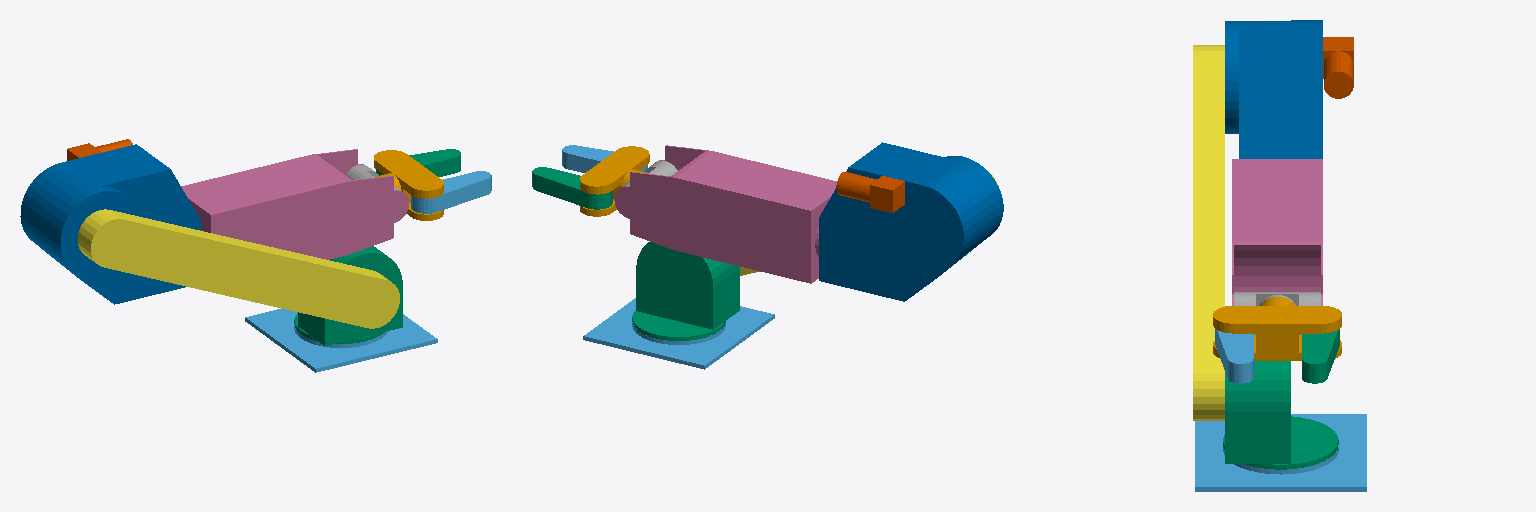
robot.urdf — generated_robot:
<?xml version='1.0' encoding='utf-8'?>
<robot name="generated_robot">
  <link name="dummy_base" />
  <joint name="dummy_joint" type="fixed">
    <parent link="dummy_base"/>
    <child link="base_link"/>
    <origin xyz="0 0 0" rpy="0 0 0"/>
  </joint>
  <link name="base_link">
    <inertial>
      <origin xyz="0 0 0.005" rpy="0 0 0" />
      <mass value="0.20722675" />
      <inertia ixx="0.00044381063" iyy="0.00044381063" izz="0.00088416748" ixy="0" ixz="0" iyz="0" />
    </inertial>
    <visual>
      <origin xyz="0 0 0" rpy="1.5707963 0 0" />
      <geometry>
        <mesh filename="package://robot_arm_description/meshes/part_001_solid_001.stl" scale="0.001 0.001 0.001" />
      </geometry>
    </visual>
    <collision>
      <origin xyz="0 0 0" rpy="1.5707963 0 0" />
      <geometry>
        <mesh filename="package://robot_arm_description/meshes/part_001_solid_001.stl" scale="0.001 0.001 0.001" />
      </geometry>
    </collision>
  </link>
  <link name="link_1">
    <inertial>
      <origin xyz="-7.77359e-05 1.085663e-05 0.052" rpy="0 0 0" />
      <mass value="0.75222554" />
      <inertia ixx="0.0014611179" iyy="0.0014603677" izz="0.0014319537" ixy="0" ixz="0" iyz="0" />
    </inertial>
    <visual>
      <origin xyz="0 0 -0.0125" rpy="1.5707963 0 0" />
      <geometry>
        <mesh filename="package://robot_arm_description/meshes/part_004_solid_004.stl" scale="0.001 0.001 0.001" />
      </geometry>
    </visual>
    <collision>
      <origin xyz="0 0 -0.0125" rpy="1.5707963 0 0" />
      <geometry>
        <mesh filename="package://robot_arm_description/meshes/part_004_solid_004.stl" scale="0.001 0.001 0.001" />
      </geometry>
    </collision>
  </link>
  <link name="link_2">
    <inertial>
      <origin xyz="-0.17305284 -0.045749999 0.078439232" rpy="0 0 0" />
      <mass value="0.92159971" />
      <inertia ixx="0.0036781725" iyy="0.016267603" izz="0.01272767" ixy="0" ixz="0" iyz="0" />
    </inertial>
    <visual>
      <origin xyz="0 0.02095 -0.068" rpy="1.5707963 0 0" />
      <geometry>
        <mesh filename="package://robot_arm_description/meshes/part_002_solid_002.stl" scale="0.001 0.001 0.001" />
      </geometry>
    </visual>
    <collision>
      <origin xyz="0 0.02095 -0.068" rpy="1.5707963 0 0" />
      <geometry>
        <mesh filename="package://robot_arm_description/meshes/part_002_solid_002.stl" scale="0.001 0.001 0.001" />
      </geometry>
    </collision>
  </link>
  <link name="link_3">
    <inertial>
      <origin xyz="0.045797883 0.04535 -0.023750007" rpy="0 0 0" />
      <mass value="2.40023" />
      <inertia ixx="0.006297151" iyy="0.012367358" izz="0.0093611186" ixy="0" ixz="0" iyz="0" />
    </inertial>
    <visual>
      <origin xyz="0.34610569 0.0517 -0.22487846" rpy="1.5707963 0 0" />
      <geometry>
        <mesh filename="package://robot_arm_description/meshes/part_003_solid_003.stl" scale="0.001 0.001 0.001" />
      </geometry>
    </visual>
    <collision>
      <origin xyz="0.34610569 0.0517 -0.22487846" rpy="1.5707963 0 0" />
      <geometry>
        <mesh filename="package://robot_arm_description/meshes/part_003_solid_003.stl" scale="0.001 0.001 0.001" />
      </geometry>
    </collision>
  </link>
  <link name="camera">
    <inertial>
      <origin xyz="-0.28386569 0.0535 0.26287846" rpy="0 0 0" />
      <mass value="0.062997497" />
      <inertia ixx="8.8301445e-06" iyy="3.3693688e-05" izz="3.3693693e-05" ixy="0" ixz="0" iyz="0" />
    </inertial>
    <visual>
      <origin xyz="0 0 0" rpy="1.5707963 0 0" />
      <geometry>
        <mesh filename="package://robot_arm_description/meshes/part_010_solid_010.stl" scale="0.001 0.001 0.001" />
      </geometry>
    </visual>
    <collision>
      <origin xyz="0 0 0" rpy="1.5707963 0 0" />
      <geometry>
        <mesh filename="package://robot_arm_description/meshes/part_010_solid_010.stl" scale="0.001 0.001 0.001" />
      </geometry>
    </collision>
  </link>
  <link name="link_4">
    <inertial>
      <origin xyz="0.13742708 -0.003 9.55e-10" rpy="0 0 0" />
      <mass value="1.6739517" />
      <inertia ixx="0.0021649777" iyy="0.010966021" izz="0.010769611" ixy="0" ixz="0" iyz="0" />
    </inertial>
    <visual>
      <origin xyz="0.20710569 0 -0.16487846" rpy="1.5707963 0 0" />
      <geometry>
        <mesh filename="package://robot_arm_description/meshes/part_006_solid_006.stl" scale="0.001 0.001 0.001" />
      </geometry>
    </visual>
    <collision>
      <origin xyz="0.20710569 0 -0.16487846" rpy="1.5707963 0 0" />
      <geometry>
        <mesh filename="package://robot_arm_description/meshes/part_006_solid_006.stl" scale="0.001 0.001 0.001" />
      </geometry>
    </collision>
  </link>
  <link name="link_5">
    <inertial>
      <origin xyz="6.6e-10 -0.041 4.77e-09" rpy="0 0 0" />
      <mass value="0.095084454" />
      <inertia ixx="6.3389636e-05" iyy="2.5355854e-05" izz="6.3389636e-05" ixy="0" ixz="0" iyz="0" />
    </inertial>
    <visual>
      <origin xyz="-0.042894309 -0.038 -0.16487846" rpy="1.5707963 0 0" />
      <geometry>
        <mesh filename="package://robot_arm_description/meshes/part_005_solid_005.stl" scale="0.001 0.001 0.001" />
      </geometry>
    </visual>
    <collision>
      <origin xyz="-0.042894309 -0.038 -0.16487846" rpy="1.5707963 0 0" />
      <geometry>
        <mesh filename="package://robot_arm_description/meshes/part_005_solid_005.stl" scale="0.001 0.001 0.001" />
      </geometry>
    </collision>
  </link>
  <link name="link_6">
    <inertial>
      <origin xyz="0.030000001 0 4.77e-09" rpy="0 0 0" />
      <mass value="0.16141715" />
      <inertia ixx="0.00021218407" iyy="6.7849009e-05" izz="0.00024118535" ixy="0" ixz="0" iyz="0" />
    </inertial>
    <visual>
      <origin xyz="-0.046894309 0.003 -0.16487846" rpy="1.5707963 0 0" />
      <geometry>
        <mesh filename="package://robot_arm_description/meshes/part_007_solid_007.stl" scale="0.001 0.001 0.001" />
      </geometry>
    </visual>
    <collision>
      <origin xyz="-0.046894309 0.003 -0.16487846" rpy="1.5707963 0 0" />
      <geometry>
        <mesh filename="package://robot_arm_description/meshes/part_007_solid_007.stl" scale="0.001 0.001 0.001" />
      </geometry>
    </collision>
  </link>
  <link name="right_gripper">
    <inertial>
      <origin xyz="0.034372258 -0.00010536384 -0.0099999952" rpy="0 0 0" />
      <mass value="0.071346324" />
      <inertia ixx="9.9848345e-06" iyy="6.7599466e-05" izz="7.2827879e-05" ixy="0" ixz="0" iyz="0" />
    </inertial>
    <visual>
      <origin xyz="-0.086894309 0.043 -0.17387846" rpy="1.5707963 0 0" />
      <geometry>
        <mesh filename="package://robot_arm_description/meshes/part_008_solid_008.stl" scale="0.001 0.001 0.001" />
      </geometry>
    </visual>
    <collision>
      <origin xyz="-0.086894309 0.043 -0.17387846" rpy="1.5707963 0 0" />
      <geometry>
        <mesh filename="package://robot_arm_description/meshes/part_008_solid_008.stl" scale="0.001 0.001 0.001" />
      </geometry>
    </collision>
  </link>
  <link name="left_gripper">
    <inertial>
      <origin xyz="0.034372258 0.00010536384 -0.0099999952" rpy="0 0 0" />
      <mass value="0.071346324" />
      <inertia ixx="9.9848345e-06" iyy="6.7599466e-05" izz="7.2827879e-05" ixy="0" ixz="0" iyz="0" />
    </inertial>
    <visual>
      <origin xyz="-0.086894309 -0.037 -0.17387846" rpy="1.5707963 0 0" />
      <geometry>
        <mesh filename="package://robot_arm_description/meshes/part_009_solid_009.stl" scale="0.001 0.001 0.001" />
      </geometry>
    </visual>
    <collision>
      <origin xyz="-0.086894309 -0.037 -0.17387846" rpy="1.5707963 0 0" />
      <geometry>
        <mesh filename="package://robot_arm_description/meshes/part_009_solid_009.stl" scale="0.001 0.001 0.001" />
      </geometry>
    </collision>
  </link>
  <joint name="link_1_joint" type="continuous">
    <origin xyz="0 0 0.0125" rpy="0 0 0" />
    <parent link="base_link" />
    <child link="link_1" />
    <axis xyz="0 0 -1" />
    <limit effort="10" velocity="5" />
  </joint>
  <joint name="link_2_joint" type="revolute">
    <origin xyz="0 -0.02095 0.0555" rpy="0 0 0" />
    <parent link="link_1" />
    <child link="link_2" />
    <axis xyz="0 1 0" />
    <limit lower="-0.75" upper="3.05" effort="10" velocity="5" />
  </joint>
  <joint name="link_3_joint" type="continuous">
    <origin xyz="-0.34610569 -0.03075 0.15687846" rpy="0 0 0" />
    <parent link="link_2" />
    <child link="link_3" />
    <axis xyz="0 1 0" />
    <limit effort="10" velocity="5" />
  </joint>
  <joint name="camera_joint" type="fixed">
    <origin xyz="0.34610569 0.0517 -0.22487846" rpy="0 0 0" />
    <parent link="link_3" />
    <child link="camera" />
  </joint>
  <joint name="link_4_joint" type="continuous">
    <origin xyz="-0.20710569 0 0.16487846" rpy="0 0 0" />
    <parent link="camera" />
    <child link="link_4" />
    <axis xyz="1 0 0" />
    <limit effort="10" velocity="5" />
  </joint>
  <joint name="link_5_joint" type="revolute">
    <origin xyz="0.25 0.038 0" rpy="0 0 0" />
    <parent link="link_4" />
    <child link="link_5" />
    <axis xyz="0 1 0" />
    <limit lower="-1.57" upper="1.57" effort="10" velocity="5" />
  </joint>
  <joint name="link_6_joint" type="continuous">
    <origin xyz="0.004 -0.041 0" rpy="0 0 0" />
    <parent link="link_5" />
    <child link="link_6" />
    <axis xyz="1 0 0" />
    <limit effort="10" velocity="5" />
  </joint>
  <joint name="right_gripper_joint" type="revolute">
    <origin xyz="0.04 -0.04 0.009" rpy="0 0 0" />
    <parent link="link_6" />
    <child link="right_gripper" />
    <axis xyz="0 0 1" />
    <limit lower="-1.57" upper="1.57" effort="10" velocity="5" />
  </joint>
  <joint name="left_gripper_joint" type="revolute">
    <origin xyz="0.04 0.04 0.009" rpy="0 0 0" />
    <parent link="link_6" />
    <child link="left_gripper" />
    <axis xyz="0 0 -1" />
    <limit lower="-1.57" upper="1.57" effort="10" velocity="5" />
  </joint>
</robot>

--- What the picture shows (computed from the rendered views, not written in the file) ---
Views: 3 orthographic renders of the robot side by side, from view 1: azimuth 30°, elevation 25°; view 2: azimuth 150°, elevation 25°; view 3: azimuth 270°, elevation 25°.
Robot: generated_robot — 11 links, 10 joints (4 revolute, 4 continuous, 2 fixed); root link dummy_base; default pose: all joints at 0.
Links seen in each view (by area): view 1: link_2, link_4, link_3, base_link, link_1, link_6, right_gripper, left_gripper, camera; view 2: link_4, link_3, link_1, base_link, link_6, camera, left_gripper, right_gripper; view 3: link_3, link_4, link_2, link_1, base_link, link_6, camera, right_gripper, left_gripper, link_5.
Boxes of the visible links, x1,y1,x2,y2 form: link_2: [78, 209, 399, 328]; link_4: [181, 149, 408, 259]; link_3: [20, 144, 200, 304]; base_link: [245, 309, 437, 372]; link_1: [294, 246, 402, 345]; link_6: [374, 150, 443, 220]; right_gripper: [411, 171, 491, 213]; left_gripper: [376, 149, 460, 176]; camera: [67, 139, 132, 160]; link_4: [614, 145, 836, 283]; link_3: [819, 142, 1003, 301]; link_1: [632, 242, 739, 340]; base_link: [583, 298, 774, 369]; link_6: [580, 146, 649, 216]; camera: [836, 172, 904, 212]; left_gripper: [532, 167, 612, 209]; right_gripper: [562, 145, 647, 172]; link_3: [1225, 20, 1322, 158]; link_4: [1232, 159, 1322, 305]; link_2: [1193, 45, 1224, 420]; link_1: [1223, 361, 1338, 469]; base_link: [1195, 414, 1366, 491]; link_6: [1213, 297, 1341, 360]; camera: [1323, 37, 1353, 98]; right_gripper: [1215, 329, 1253, 383]; left_gripper: [1302, 329, 1339, 383]; link_5: [1234, 292, 1320, 334].
Bounding box of the posed robot: 0.5721 × 0.1617 × 0.2774 m (x, y, z).
10 mesh visuals loaded from 10 distinct referenced files (10 binary STL).
